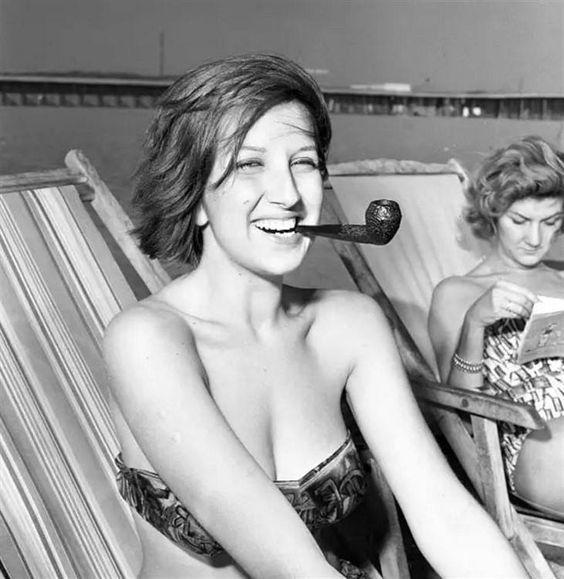trubka: (294, 199, 402, 245)
